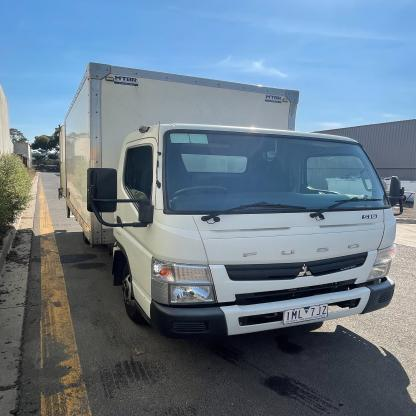truck: (58, 63, 404, 341)
